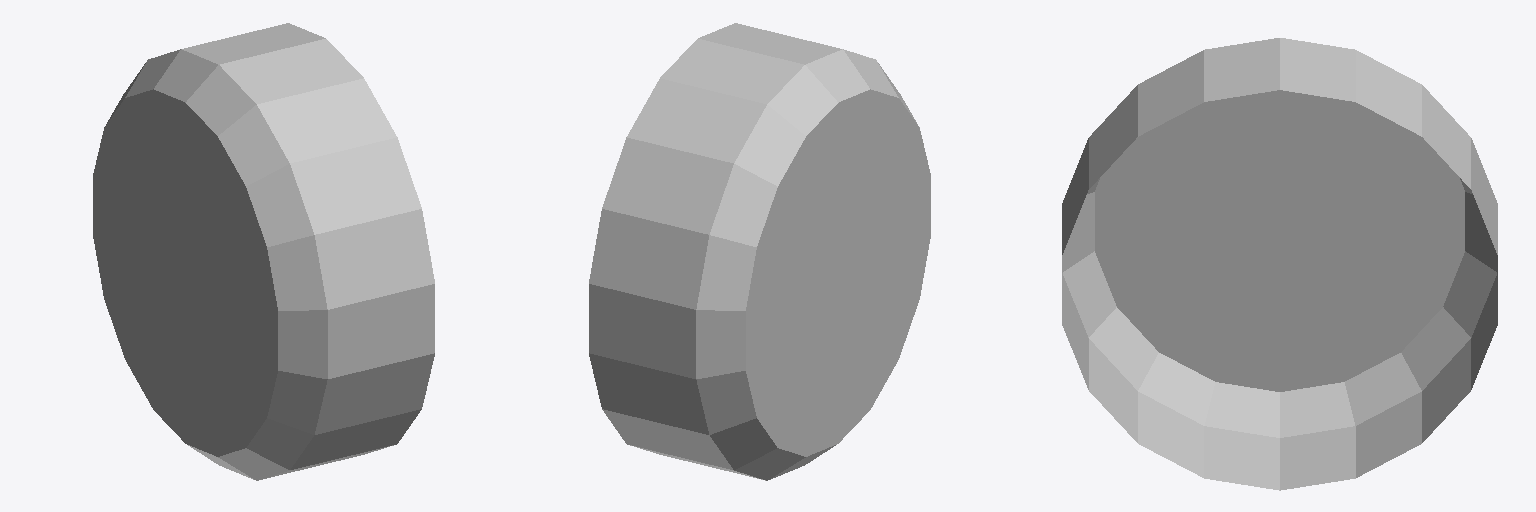
The model's file is Tire back right unwrapped.obj.
3 renders of one model, left to right at view 1: azimuth 30°, elevation 25°; view 2: azimuth 150°, elevation 25°; view 3: azimuth 270°, elevation 25°, orthographic.
Visible parts, largest first — view 1: Wheel_back_right; view 2: Wheel_back_right; view 3: Wheel_back_right.
Part boxes in pixels (left/top/right/bottom): Wheel_back_right: left=93, top=23, right=434, bottom=480; Wheel_back_right: left=589, top=23, right=930, bottom=480; Wheel_back_right: left=1062, top=38, right=1497, bottom=490.
Bounding box in the file's own units: 12.61 × 34.28 × 33.76.